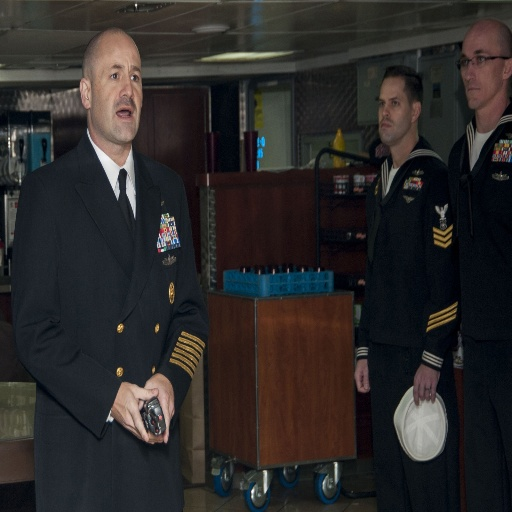hand: (137, 373, 176, 444), (414, 365, 441, 406), (354, 360, 371, 394)
